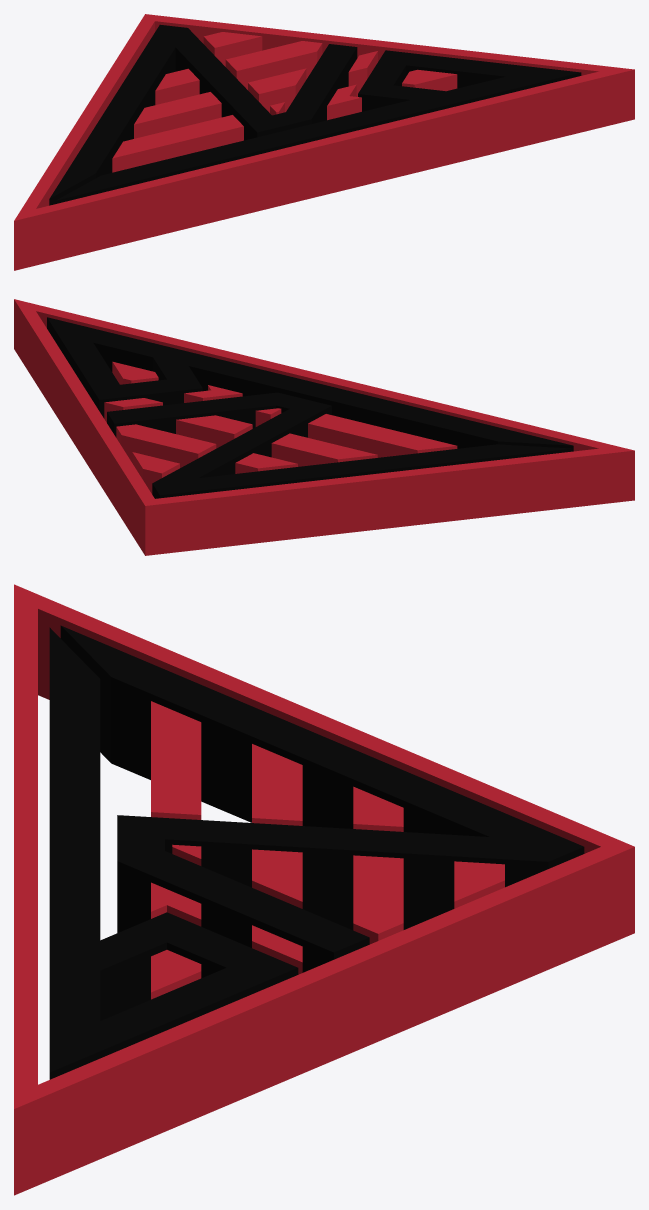
File: N9-black.obj
The picture shows the model from 3 angles, top to bottom: view 1: azimuth 30°, elevation 25°; view 2: azimuth 150°, elevation 25°; view 3: azimuth 270°, elevation 25°; orthographic projection. The views are drawn at different scales.
Size of the model in its own units: 52.07 by 4 by 26.04.
